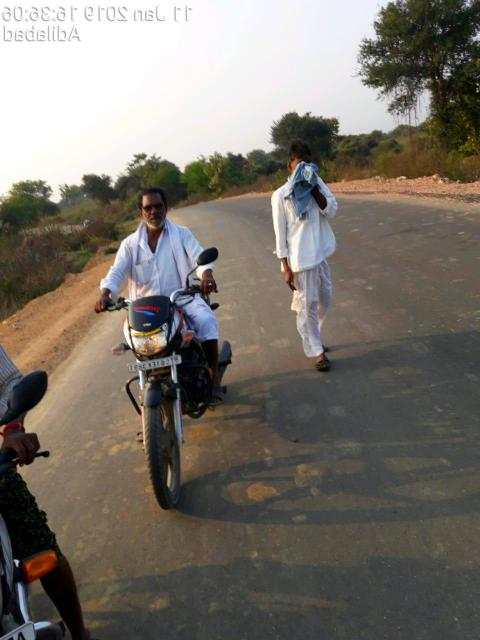motor: (91, 245, 238, 514)
non-helm: (137, 187, 173, 233)
